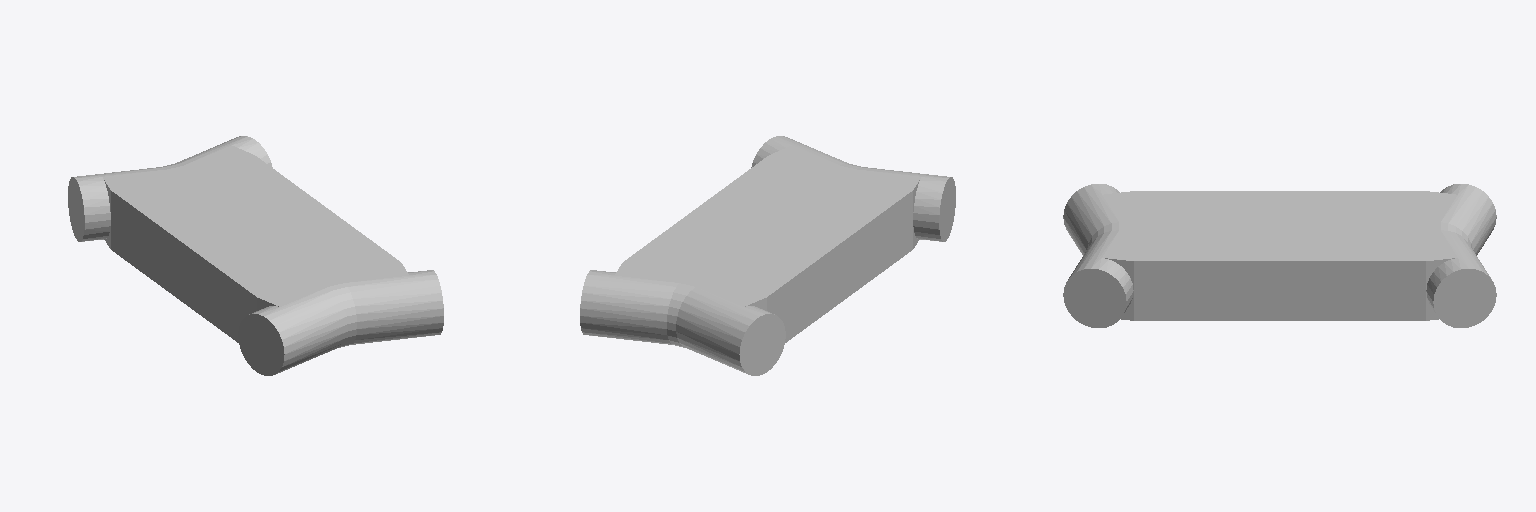
File: soft_body_v2_simplified.obj
The picture shows the model from 3 angles: view 1: azimuth 30°, elevation 25°; view 2: azimuth 150°, elevation 25°; view 3: azimuth 270°, elevation 25°; orthographic projection.
Visible parts, largest first — view 1: Solid1; view 2: Solid1; view 3: Solid1.
Part boxes in pixels (x1,y1,x2,y2): Solid1: (68,136,443,375); Solid1: (580,136,955,375); Solid1: (1063,184,1496,327).
Bounding box in the file's own units: 197 × 59.2 × 391.